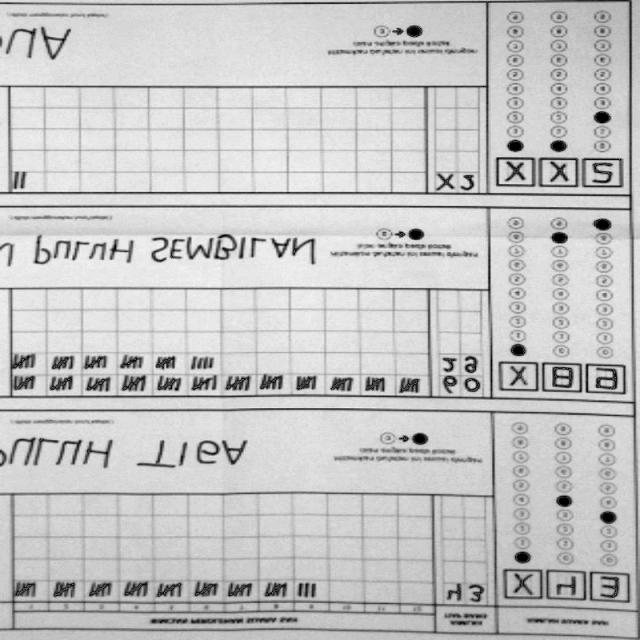Suara: (499, 567, 634, 605), (495, 359, 630, 397), (494, 156, 628, 194)
